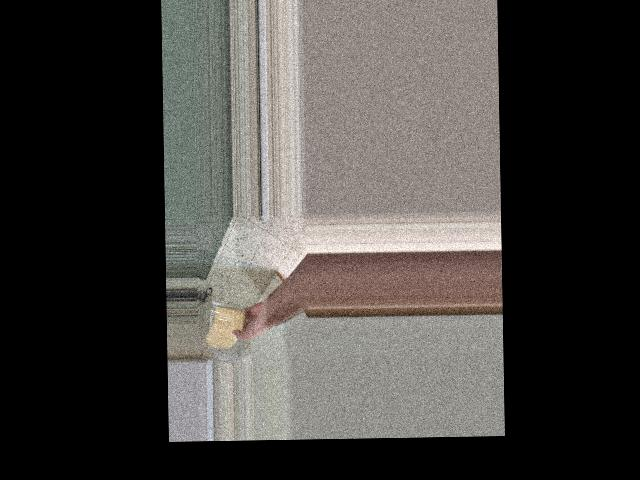cheese: (201, 301, 247, 351)
